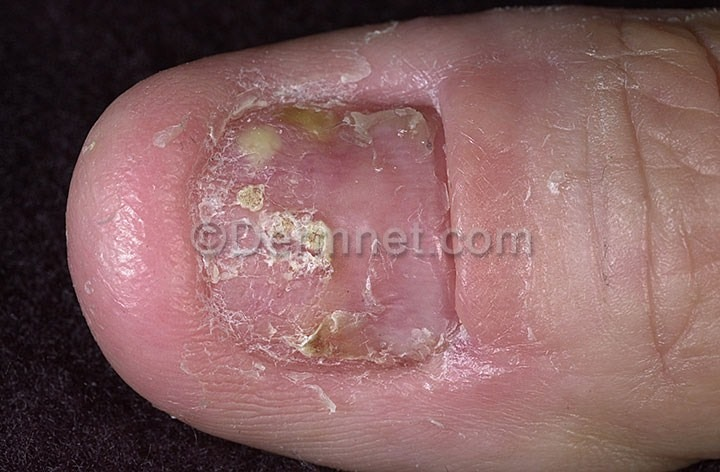Psoriasis: (168, 72, 532, 394)
